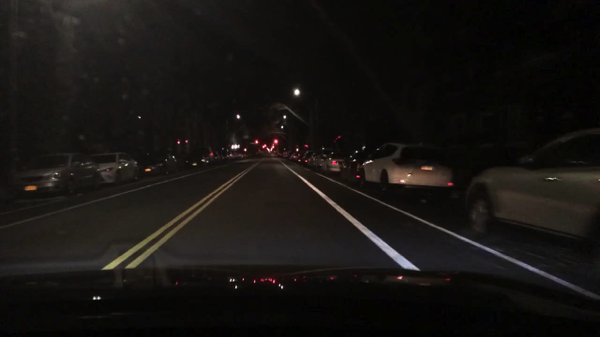car: (462, 128, 599, 262), (356, 139, 456, 200), (11, 151, 102, 197), (89, 152, 141, 186), (343, 146, 379, 186), (137, 148, 179, 176), (323, 150, 350, 173), (184, 151, 212, 167), (315, 147, 335, 169), (195, 145, 215, 164), (212, 148, 226, 162), (298, 151, 312, 165), (308, 152, 319, 168), (220, 147, 230, 160), (288, 152, 299, 160), (235, 151, 246, 158), (228, 148, 235, 158), (280, 151, 289, 157), (244, 153, 251, 159), (276, 151, 282, 157)
traffic light: (274, 139, 278, 146), (255, 140, 258, 145)
